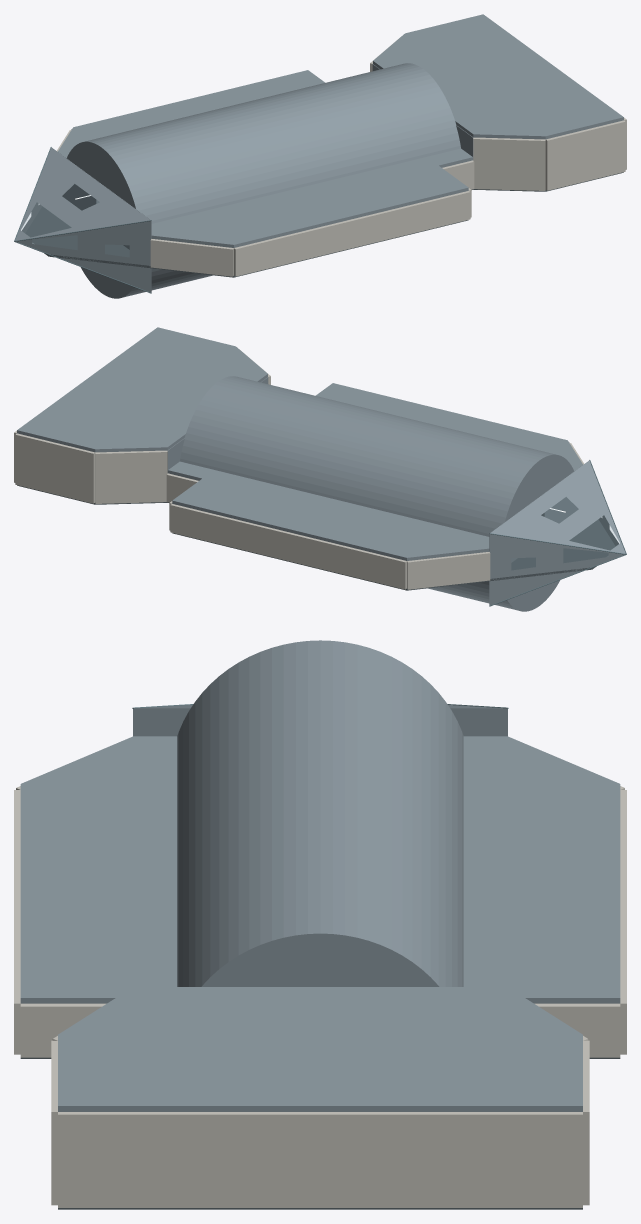
The model's file is adastra.glb.
3 views of the same model, one above another, from view 1: azimuth 30°, elevation 25°; view 2: azimuth 150°, elevation 25°; view 3: azimuth 270°, elevation 25° (orthographic). The views are drawn at different scales.
Parts seen in each view (by area): view 1: Cylinder_upper, Living_roof, Hangar_roof, Hull_body.001, Cockpit_skin_2, Hull_hangar.001, Cockpit_skin_3, Hull_hangar, Hull_body, Continuous_deck, Cylinder_lower, Hull_body.003 (+1 smaller); view 2: Cylinder_upper, Living_roof, Hangar_roof, Hull_body.006, Cockpit_skin_2, Hull_hangar.003, Cockpit_skin_1, Hull_hangar.004, Hull_body.007, Continuous_deck, Cylinder_lower, Hull_body.004 (+1 smaller); view 3: Cylinder_upper, Living_roof, Hangar_roof, Hull_hangar.002, Cockpit_rear_upper_seal, Hull_body.002, Hull_body.005, Hull_body.001, Hull_body.006, Continuous_deck, Hull_hangar.001, Hull_hangar.003.
Boxes of the visible parts, x1,y1,x2,y2 form: Cylinder_upper: (66,63,460,223); Living_roof: (58,70,473,247); Hangar_roof: (373,14,623,139); Hull_body.001: (234,191,470,276); Cockpit_skin_2: (15,147,150,240); Hull_hangar.001: (545,120,625,190); Cockpit_skin_3: (17,221,151,292); Hull_hangar: (473,137,545,190); Hull_body: (150,239,233,276); Continuous_deck: (25,172,623,277); Cylinder_lower: (80,267,212,298); Hull_body.003: (442,160,474,189); Cylinder_upper: (180,376,574,536); Living_roof: (167,383,582,560); Hangar_roof: (17,327,267,452); Hull_body.006: (170,504,406,589); Cockpit_skin_2: (490,460,625,553); Hull_hangar.003: (15,433,95,503); Cockpit_skin_1: (489,534,623,605); Hull_hangar.004: (95,450,167,503); Hull_body.007: (407,552,490,589); Continuous_deck: (17,485,615,590); Cylinder_lower: (428,580,560,611); Hull_body.004: (166,473,198,502); Cylinder_upper: (177,640,463,986); Living_roof: (20,736,620,1003); Hangar_roof: (58,987,582,1111); Hull_hangar.002: (58,1112,582,1207); Cockpit_rear_upper_seal: (133,708,507,736); Hull_body.002: (20,1003,106,1057); Hull_body.005: (534,1003,620,1057); Hull_body.001: (14,790,20,1054); Hull_body.006: (620,790,626,1054); Continuous_deck: (20,1057,620,1209); Hull_hangar.001: (51,1040,57,1205); Hull_hangar.003: (583,1040,589,1205).
Size of the model in its own units: 62.38 by 16 by 32.7.
